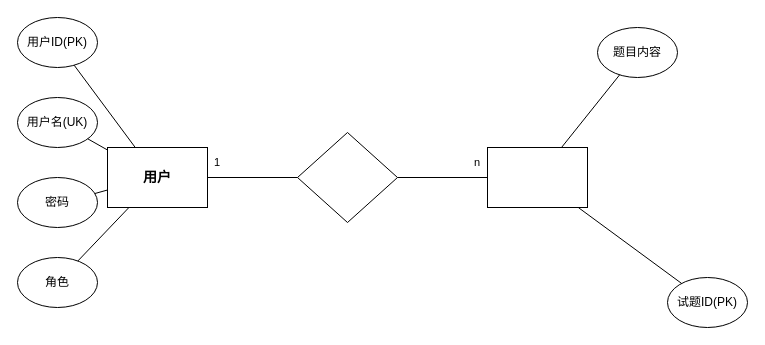
The diagram is 765 pixels wide and 345 high, and some of its shapes have lost their labels. Here are the shapes that lost their labels. From the top down, the centre of each, then its label:
point (347, 177): 创建管理(role=ADMIN)
point (537, 177): 试题
